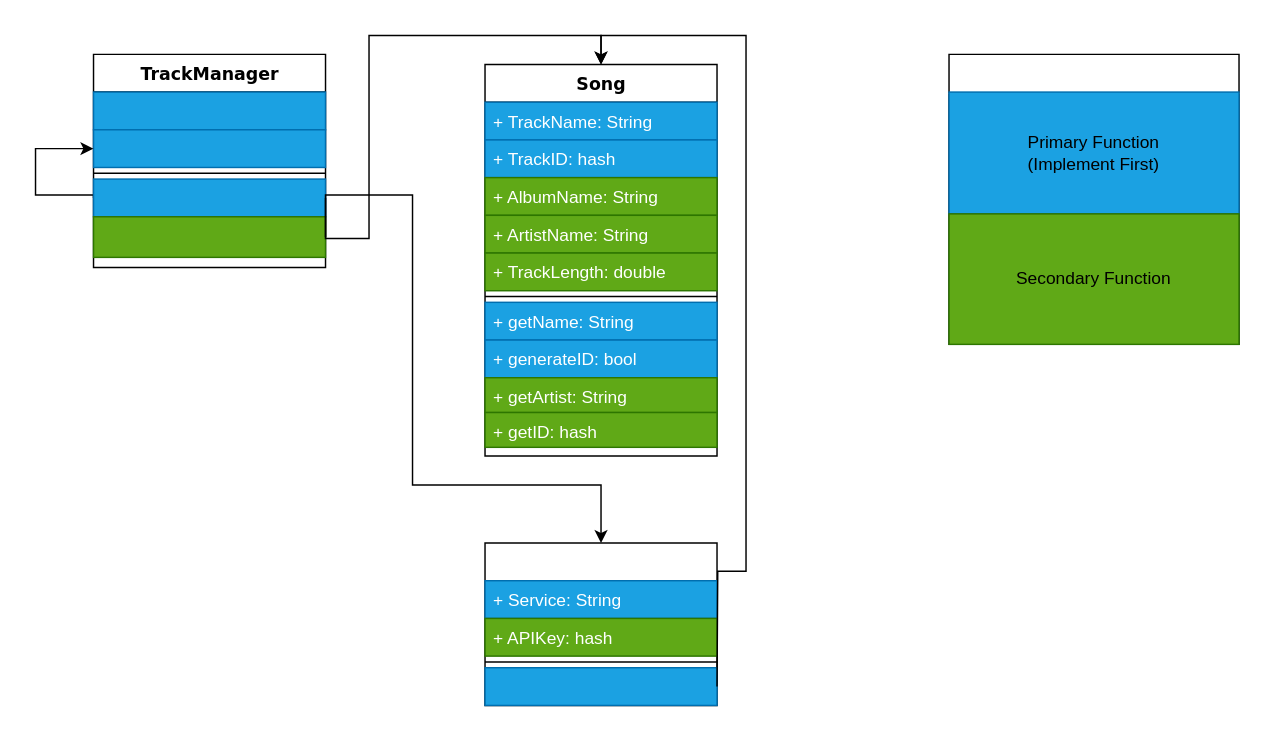
The diagram is 1264 pixels wide and 735 high, and some of its shapes have lost their labels. Here are the shapes that lost their labels. From the top down, the box of each, then its label:
(92, 91, 326, 130): + User: hash
(92, 128, 326, 167): + TopSongs: Song[]
(92, 178, 326, 217): + FillTopSongs: bool
(948, 53, 1239, 344): Key
(92, 215, 326, 257): + Fetch(): Song
(484, 542, 717, 705): APIFetcher
(484, 666, 717, 705): + getTop: Song[]
